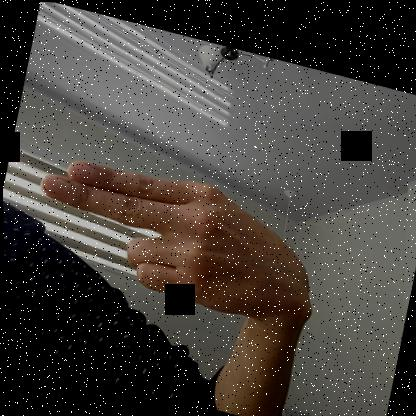H: (24, 139, 345, 334)
